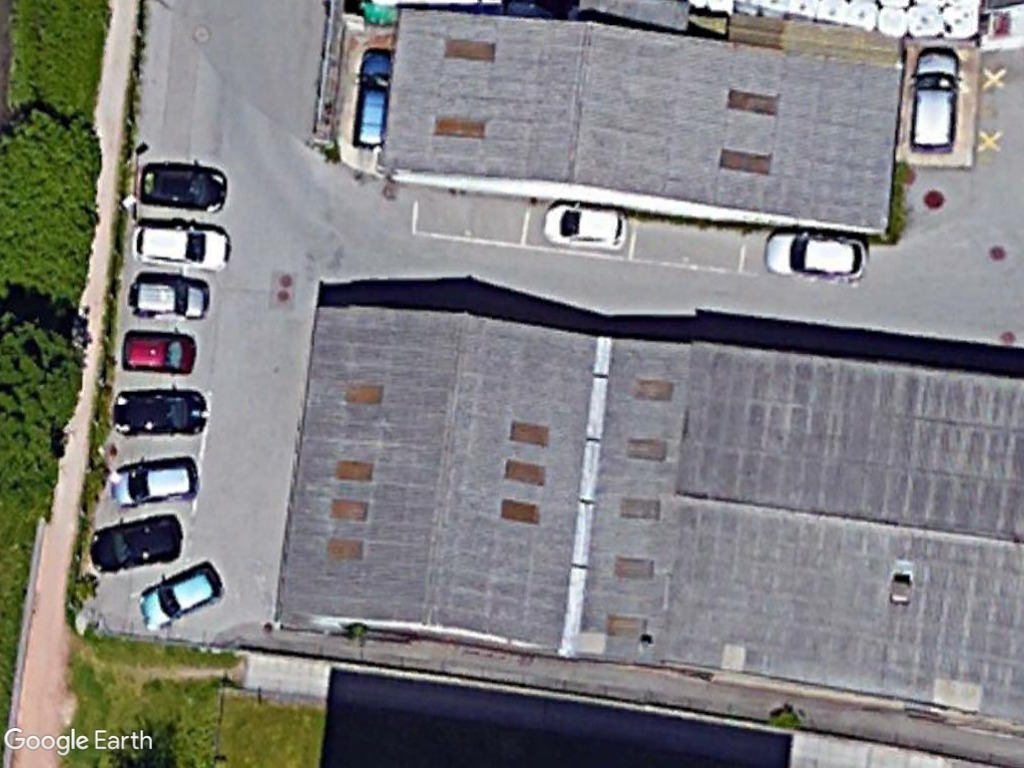car: (138, 554, 225, 642), (85, 512, 190, 579), (756, 227, 873, 284), (905, 44, 963, 158), (124, 221, 243, 273), (532, 200, 636, 254), (105, 456, 198, 509), (122, 273, 217, 321), (117, 327, 201, 378)
